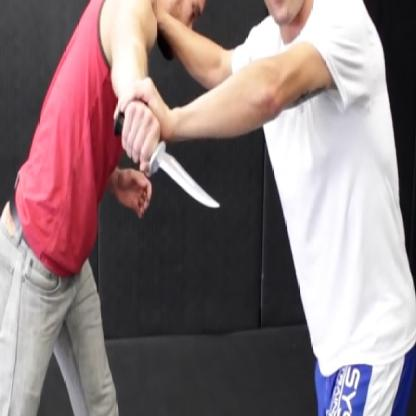knife: (107, 101, 227, 220)
